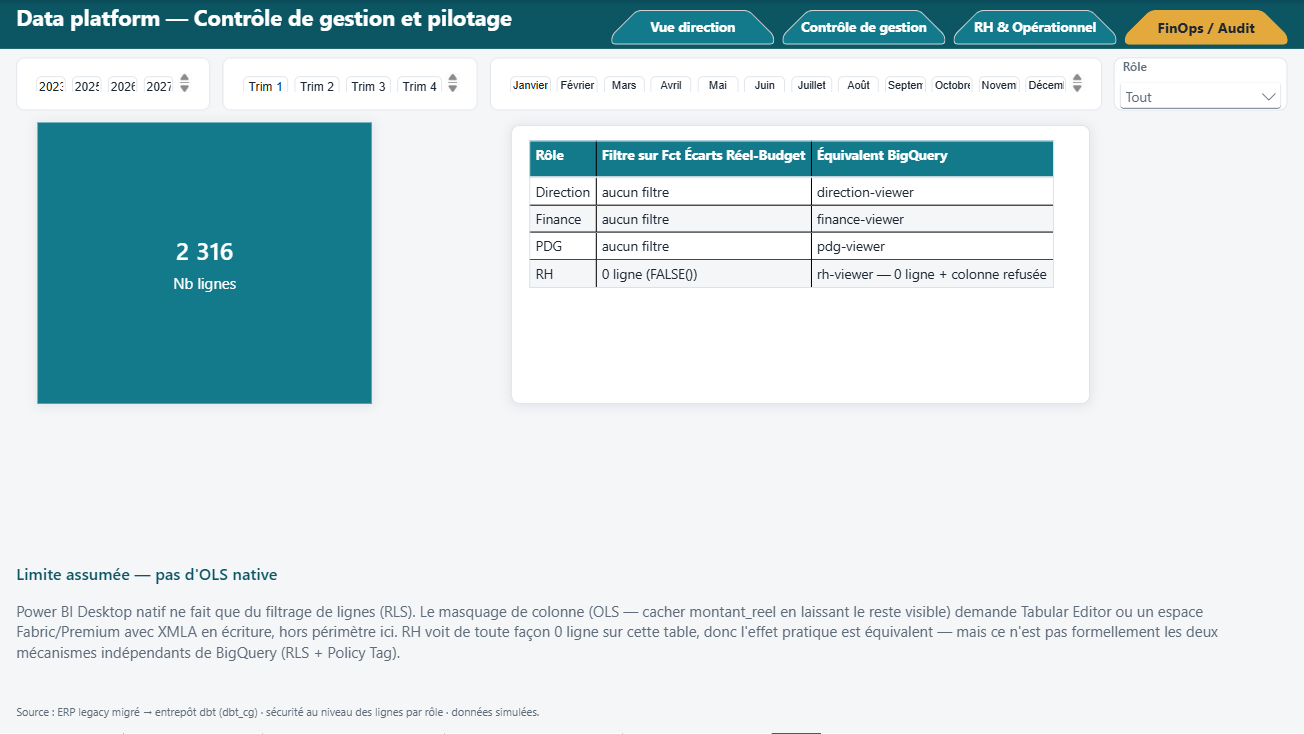

Layout of this report page (visuals, bound fields, positions):
{"tool":"powerbi","page":{"name":"FinOps / Audit","canvas":[1280,720],"ordinal":3},"visuals":[{"type":"shape","box":[0,0,1280,48],"z":0},{"type":"textbox","box":[16,2,570,46],"z":100},{"type":"pageNavigator","box":[600,10,664,34],"z":200},{"type":"textbox","box":[16,688,1248,30],"z":1000},{"type":"ChicletSlicer1448559807354","fields":{"Category":["Dim Date.Calendrier.Année"],"Values":["Min(Dim Date.date)"]},"box":[16,56,190.3,52],"z":1003},{"type":"ChicletSlicer1448559807354","fields":{"Category":["Dim Date.Calendrier.Trimestre"]},"box":[218.3,56,250.4,52],"z":1004},{"type":"ChicletSlicer1448559807354","fields":{"Category":["Dim Date.Calendrier.Mois"]},"box":[480.7,56,601,52],"z":1005},{"type":"slicer","fields":{"Values":["Rôles RLS.Rôle"]},"box":[1093.7,56,170.3,52],"z":1006},{"type":"textbox","title":"Limite assumée — pas d''OLS native","box":[16,552.7,1248,127.3],"z":5007},{"type":"tableEx","fields":{"Values":["Rôles RLS.Rôle","Rôles RLS.Filtre sur Fct Écarts Réel-Budget","Rôles RLS.Équivalent BigQuery"]},"box":[501.9,122.1,568,273.6],"z":5008},{"type":"card","fields":{"Values":["Fct Écarts Réel-Budget.Nb lignes"]},"box":[36.5,120,328.2,275.8],"z":5009}]}

Visuals, with their boxes in screenshot pixels (x1, y1, x2, y2), scaled from the page's 1280x720 canvas onto the 1304x734 screenshot:
shape: left=0, top=0, right=1303, bottom=49
textbox: left=16, top=2, right=597, bottom=49
pageNavigator: left=611, top=10, right=1288, bottom=45
textbox: left=16, top=701, right=1288, bottom=732
ChicletSlicer1448559807354 - Dim Date.Calendrier.Année x Min(Dim Date.date): left=16, top=57, right=210, bottom=110
ChicletSlicer1448559807354 - Dim Date.Calendrier.Trimestre: left=222, top=57, right=477, bottom=110
ChicletSlicer1448559807354 - Dim Date.Calendrier.Mois: left=490, top=57, right=1102, bottom=110
slicer - Rôles RLS.Rôle: left=1114, top=57, right=1288, bottom=110
"Limite assumée — pas d''OLS native" textbox: left=16, top=563, right=1288, bottom=693
tableEx - Rôles RLS.Rôle x Rôles RLS.Filtre sur Fct Écarts Réel-Budget: left=511, top=124, right=1090, bottom=403
card - Fct Écarts Réel-Budget.Nb lignes: left=37, top=122, right=372, bottom=403
